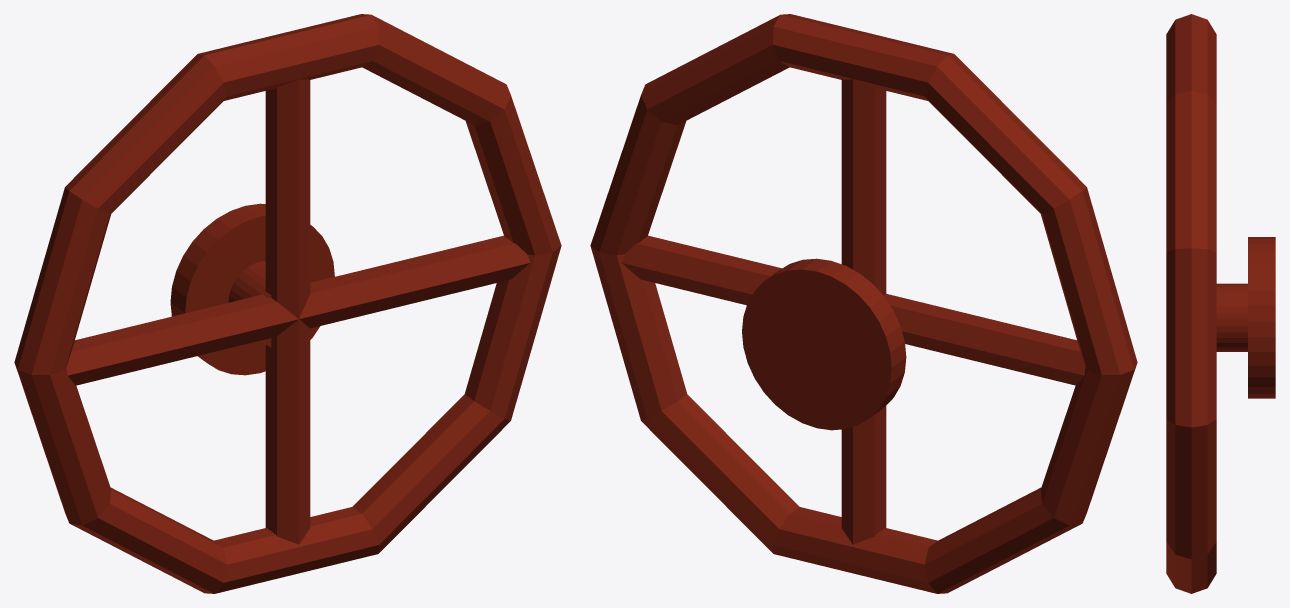
Rendered from DOOR WHEEL.fbx.
3 renders of one model, left to right at view 1: azimuth 30°, elevation 25°; view 2: azimuth 150°, elevation 25°; view 3: azimuth 270°, elevation 25°, orthographic. The views are drawn at different scales.
Visible parts, largest first — view 1: DOOR WHEEL; view 2: DOOR WHEEL; view 3: DOOR WHEEL.
Boxes of the visible parts, box(x1,y1,x2,y2) form: DOOR WHEEL: box(14, 14, 561, 593); DOOR WHEEL: box(590, 14, 1137, 593); DOOR WHEEL: box(1166, 14, 1275, 593).
Size of the model in its own units: 212 by 201 by 39.53.
